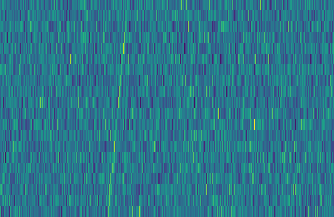signal: (102, 0, 132, 217)
